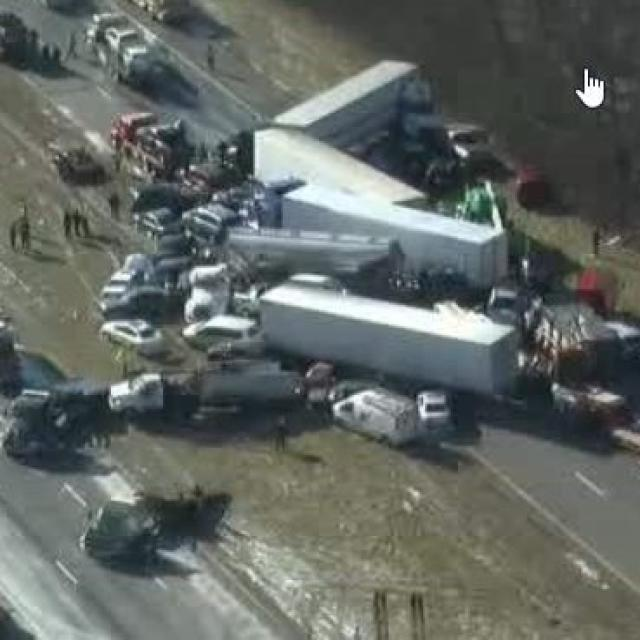traffic_incident: (121, 99, 580, 414)
